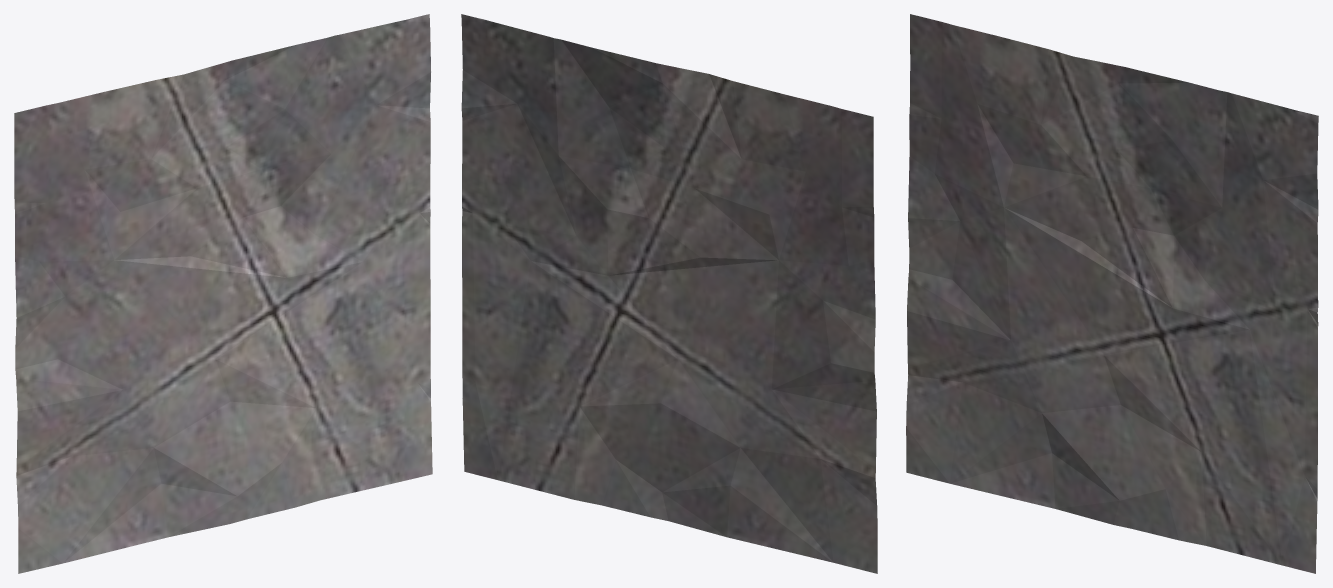
The model's file is Tile_+001_+007_L23_001000.obj.
The picture shows the model from 3 angles, left to right: view 1: azimuth 30°, elevation 25°; view 2: azimuth 150°, elevation 25°; view 3: azimuth 330°, elevation 25°; orthographic projection.
Bounding box in the file's own units: 1.91 × 2.02 × 0.0509.
1 material, 1 textured.
